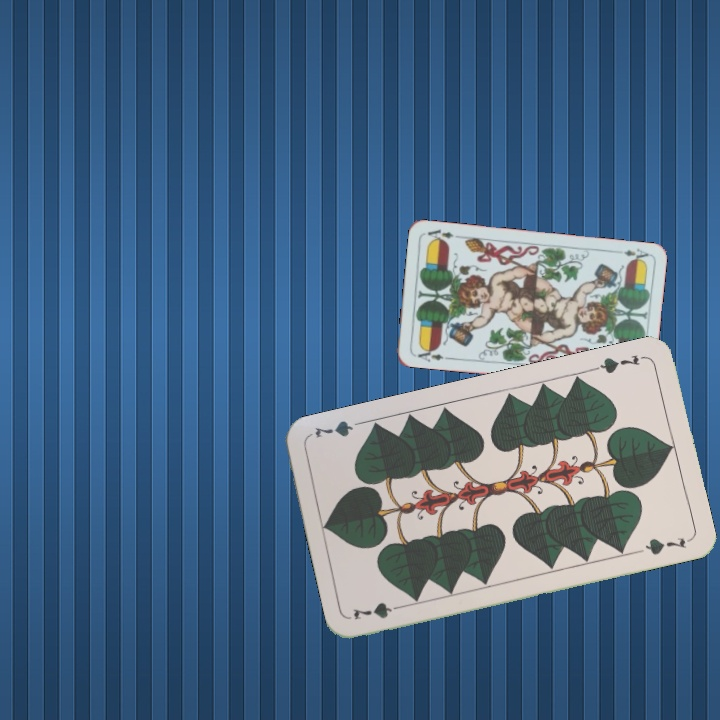EA: (411, 344, 451, 364), (620, 245, 651, 265)
G7: (590, 350, 648, 376), (348, 598, 408, 623)
